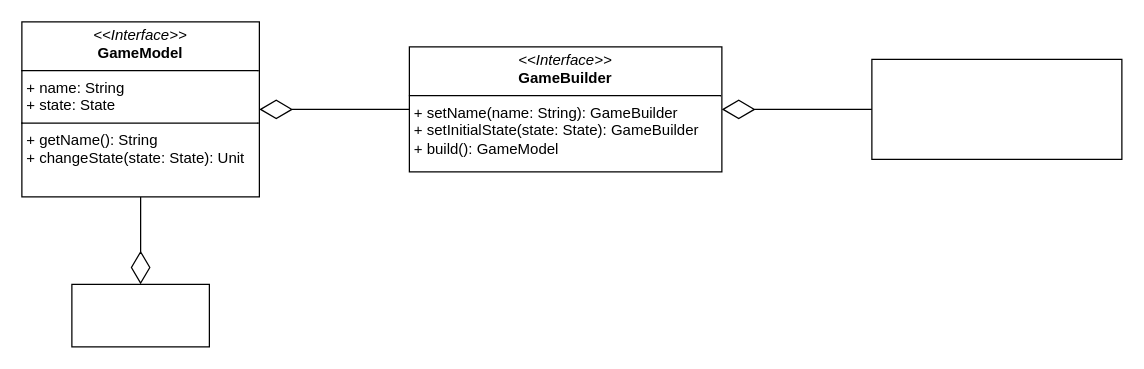
The diagram is 1144 pixels wide and 369 high, and some of its shapes have lost their labels. The shapes that lost their labels are listed below. From the top down, each one's centre as x and y in pixels, then its label:
point 996,108: <<Interface>> CardGameEngineDSL
point 140,315: «interface» State
